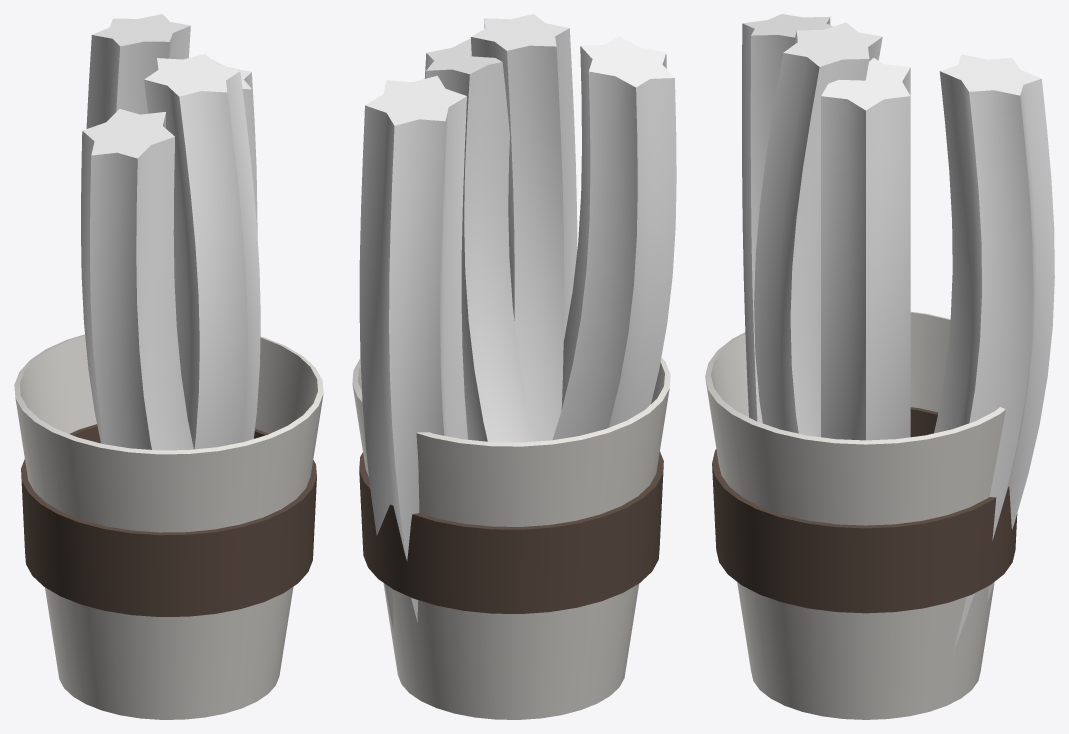
Rendered from food_churros.glb.
3 views of the same model, side by side, from view 1: azimuth 30°, elevation 25°; view 2: azimuth 150°, elevation 25°; view 3: azimuth 270°, elevation 25° (orthographic). The views are drawn at different scales.
Parts seen in each view (by area): view 1: Cup_LOD0, Churro_LOD0.003, Churro_LOD0.002, Band_LOD0, Churro_LOD0.001, Churro_LOD0; view 2: Cup_LOD0, Churro_LOD0.001, Churro_LOD0.002, Churro_LOD0.003, Band_LOD0, Churro_LOD0; view 3: Cup_LOD0, Churro_LOD0.001, Churro_LOD0, Band_LOD0, Churro_LOD0.003, Churro_LOD0.002.
Part boxes in pixels (bbox=[...]): Cup_LOD0: bbox=[14, 334, 323, 719]; Churro_LOD0.003: bbox=[144, 54, 260, 449]; Churro_LOD0.002: bbox=[81, 109, 193, 450]; Band_LOD0: bbox=[21, 424, 316, 616]; Churro_LOD0.001: bbox=[86, 14, 190, 128]; Churro_LOD0: bbox=[211, 59, 257, 235]; Cup_LOD0: bbox=[352, 357, 670, 719]; Churro_LOD0.001: bbox=[359, 75, 467, 628]; Churro_LOD0.002: bbox=[552, 36, 676, 439]; Churro_LOD0.003: bbox=[470, 14, 577, 441]; Band_LOD0: bbox=[359, 452, 663, 613]; Churro_LOD0: bbox=[424, 38, 534, 442]; Cup_LOD0: bbox=[705, 312, 1005, 719]; Churro_LOD0.001: bbox=[934, 54, 1054, 649]; Churro_LOD0: bbox=[821, 58, 910, 440]; Band_LOD0: bbox=[712, 407, 1017, 613]; Churro_LOD0.003: bbox=[754, 22, 882, 437]; Churro_LOD0.002: bbox=[742, 14, 832, 423].
Bounding box in the file's own units: 0.084 × 0.1825 × 0.0914.
